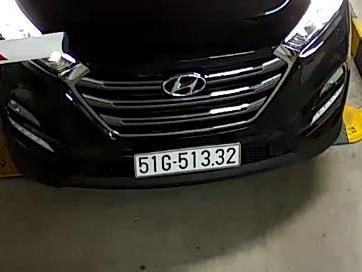car: (132, 143, 242, 180)
